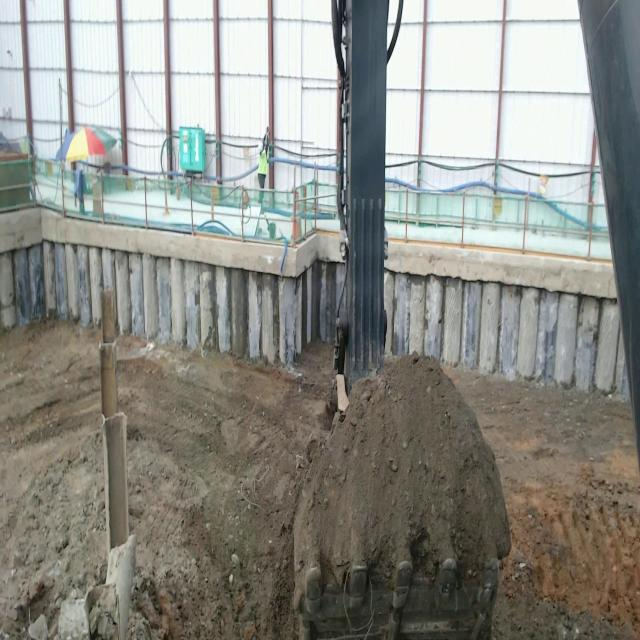red-sand: (118, 337, 331, 639), (444, 366, 640, 639), (294, 355, 511, 597), (0, 320, 106, 639)
